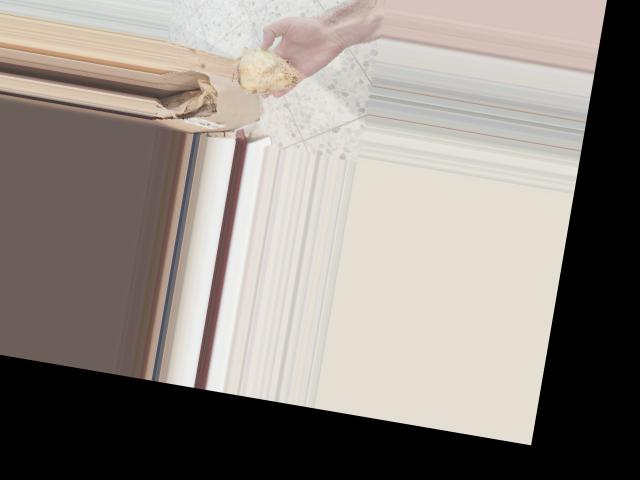onion: (227, 41, 307, 103)
